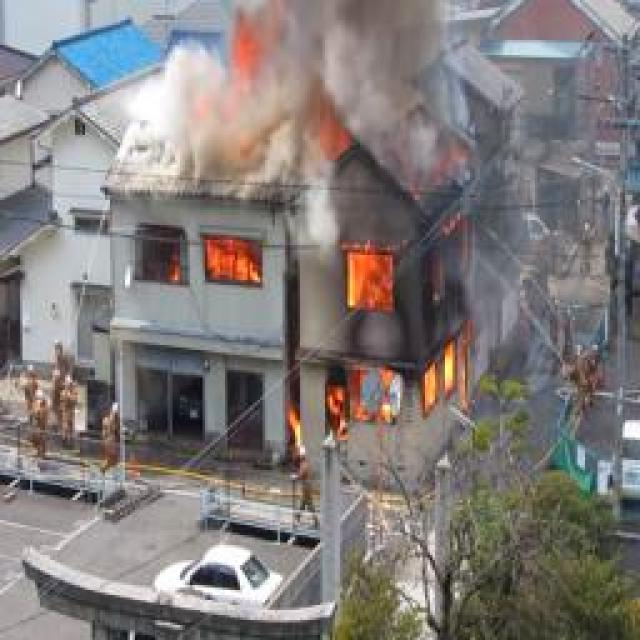Fire: (321, 233, 464, 452), (193, 25, 277, 147), (195, 233, 258, 287)
